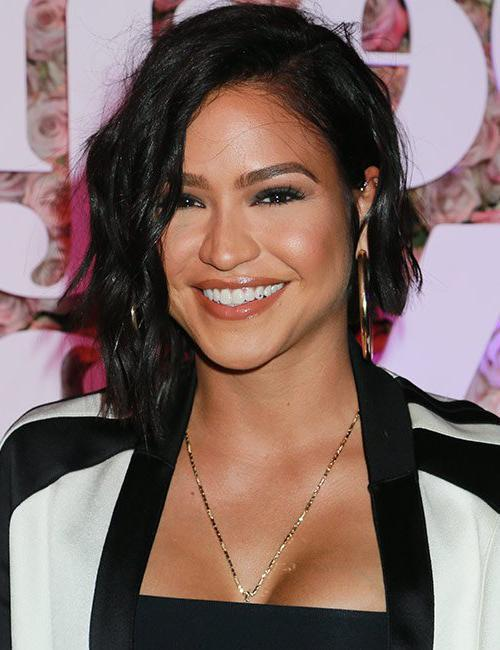Sober: (152, 106, 351, 371)
